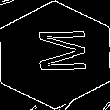M_W: (26, 32, 84, 78)
